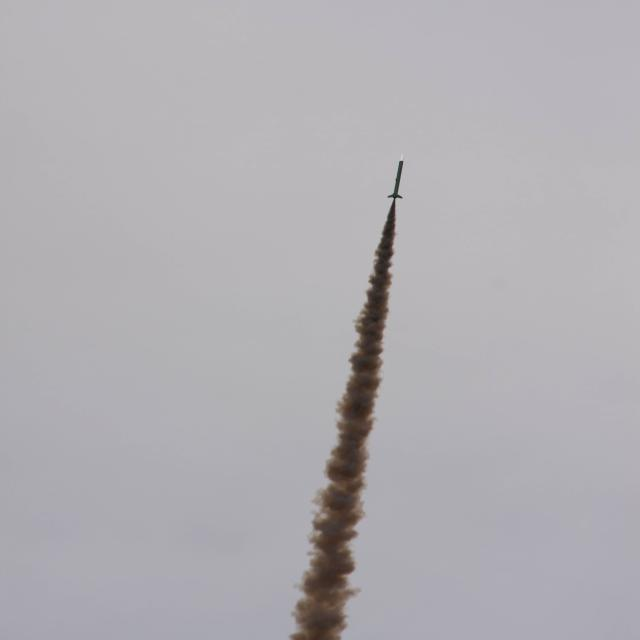Rocket: (388, 153, 404, 200)
